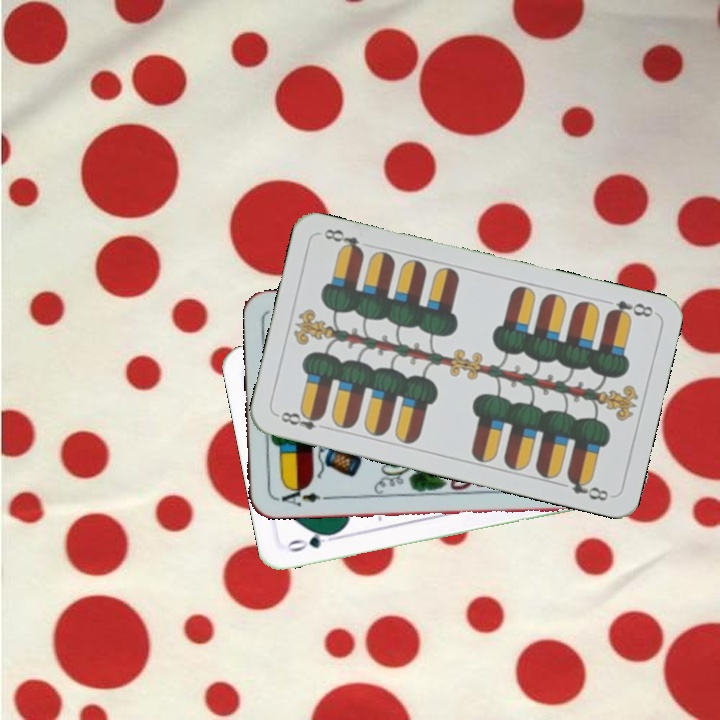E8: (273, 406, 331, 433), (602, 296, 656, 322)
EA: (271, 483, 330, 510)
GO: (283, 527, 341, 555)
